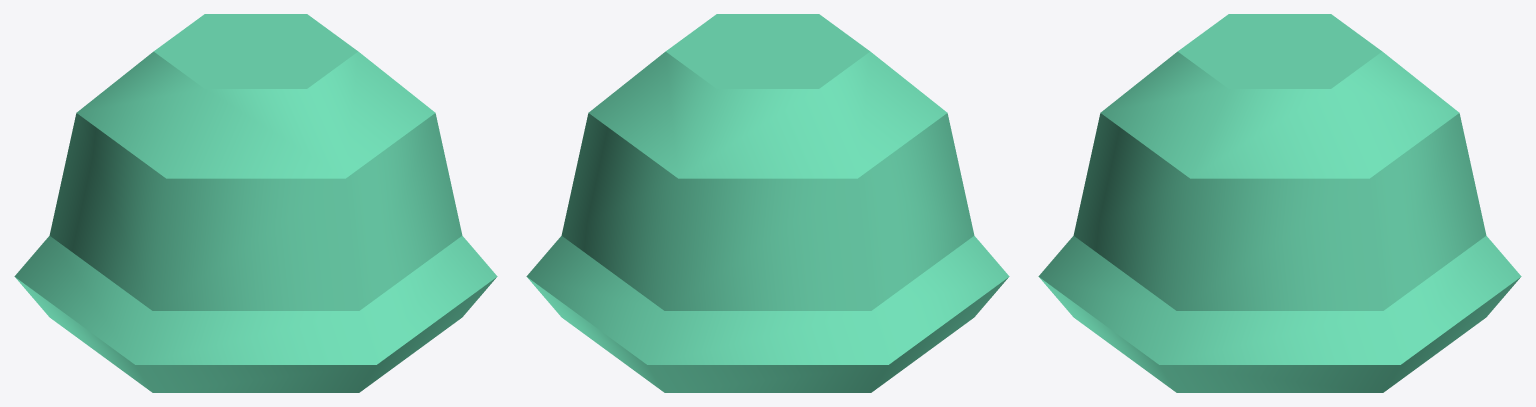
The model's file is iceCreamScoopMint.obj.
The picture shows the model from 3 angles, left to right: view 1: azimuth 30°, elevation 25°; view 2: azimuth 150°, elevation 25°; view 3: azimuth 270°, elevation 25°; orthographic projection.
Visible parts, largest first — view 1: iceCreamScoopMint; view 2: iceCreamScoopMint; view 3: iceCreamScoopMint.
Part boxes in pixels (box(x1,y1,x2,y2)): iceCreamScoopMint: box(14, 14, 497, 392); iceCreamScoopMint: box(526, 14, 1009, 392); iceCreamScoopMint: box(1038, 14, 1521, 392).
Bounding box in the file's own units: 0.2352 × 0.165 × 0.2716.
